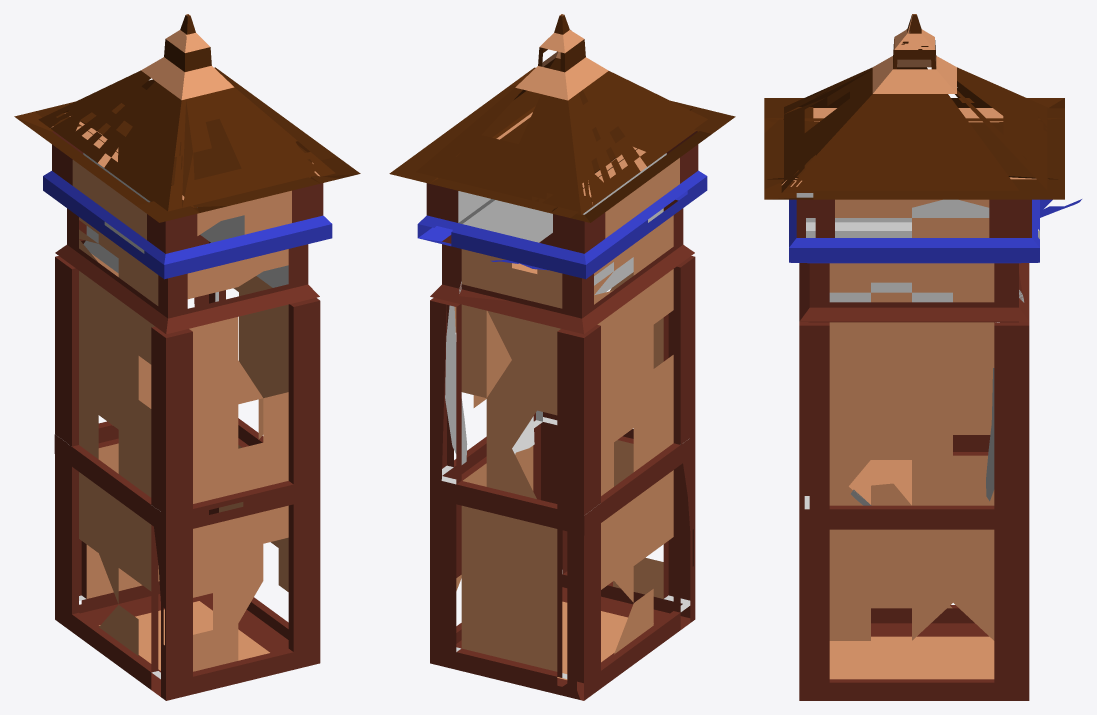
The model's file is semidemolished_yamato_tower.fbx.
The picture shows the model from 3 angles, left to right: view 1: azimuth 30°, elevation 25°; view 2: azimuth 150°, elevation 25°; view 3: azimuth 270°, elevation 25°; orthographic projection. The views are drawn at different scales.
Parts seen in each view (by area): view 1: Cube, Cube.001; view 2: Cube, Cube.001; view 3: Cube, Cube.001.
Boxes of the visible parts, x1,y1,x2,y2 form: Cube: (14,67,360,700); Cube.001: (38,14,335,211); Cube: (389,67,735,700); Cube.001: (416,14,707,214); Cube: (764,98,1081,700); Cube.001: (781,14,1049,192).
Bounding box in the file's own units: 288 × 854 × 381.
